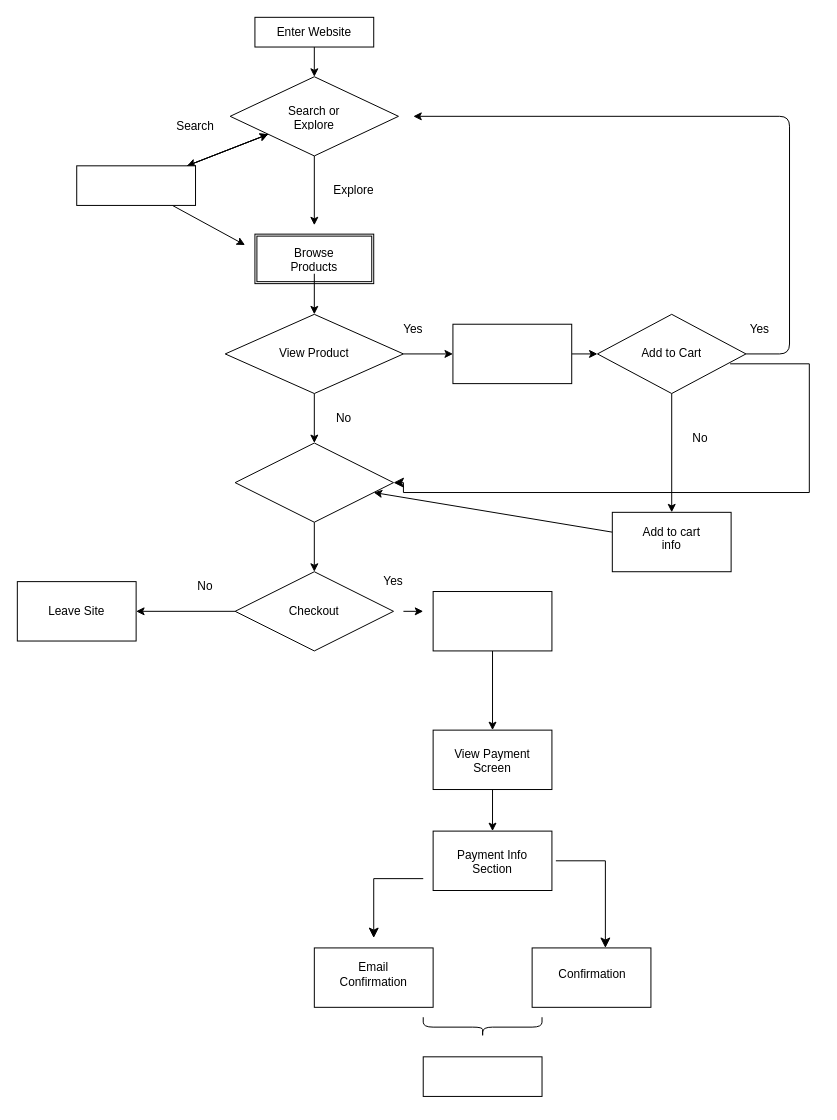
Some shapes in this 837 by 1120 pixel diagram are drawn without their labels. Each missing label, with the box of its shape:
Continue Shopping: (234, 442, 394, 522)
End Session: (422, 1016, 542, 1037)
Enter Search Terms: (76, 165, 196, 205)
Open Product Page: (452, 323, 572, 384)
View Cart: (432, 591, 552, 651)
